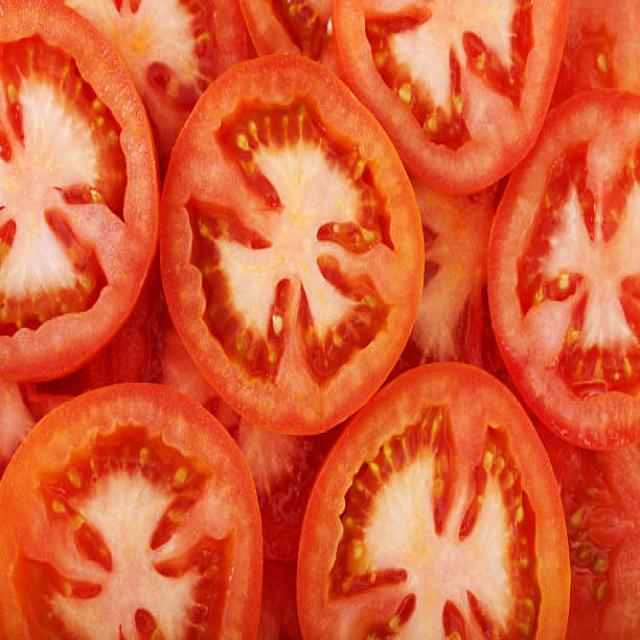Tomato: (159, 64, 419, 421), (312, 361, 563, 640), (7, 366, 258, 640), (493, 83, 640, 469)
